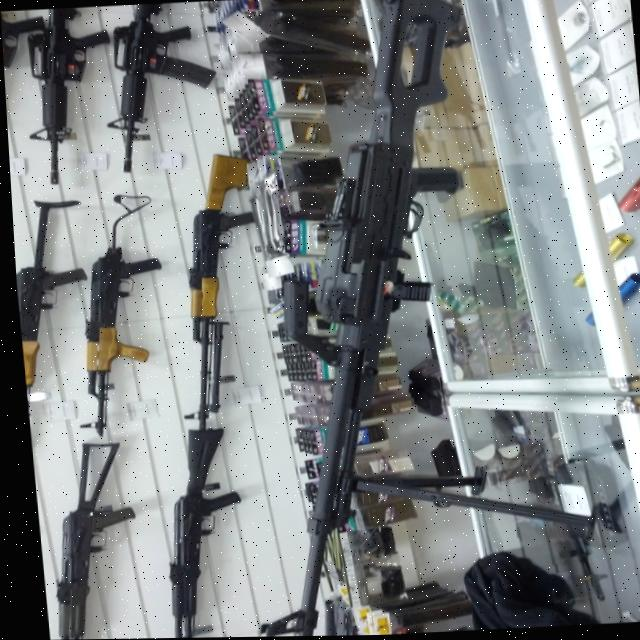firearm: (195, 0, 510, 638), (151, 153, 267, 426), (52, 192, 174, 437), (136, 426, 247, 639), (83, 2, 218, 172), (25, 443, 135, 640), (14, 7, 115, 185)
